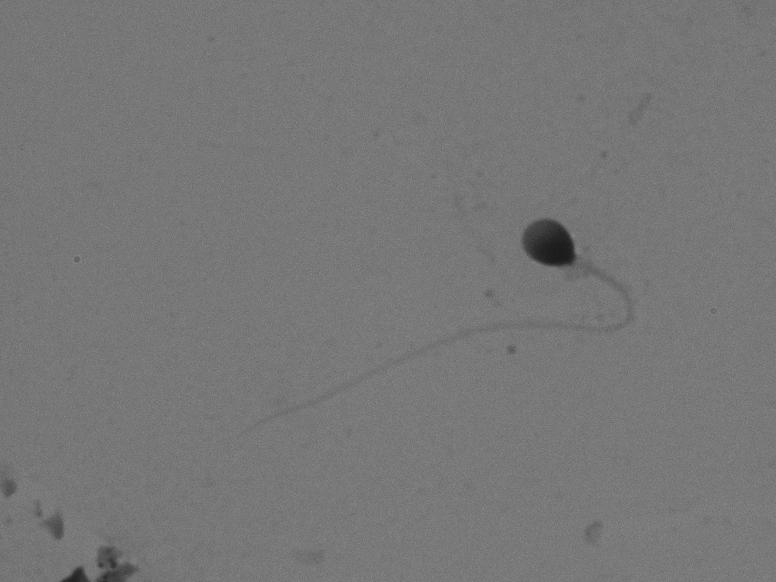Normal: (209, 205, 700, 463)
